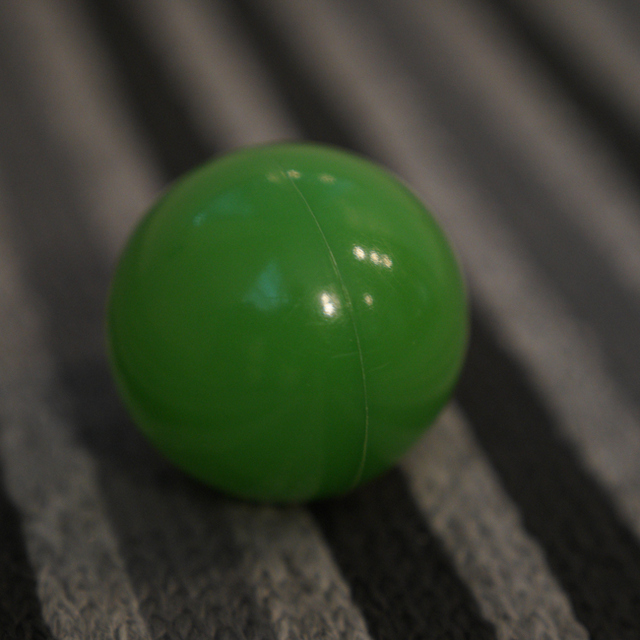Ball: (94, 146, 469, 505)
